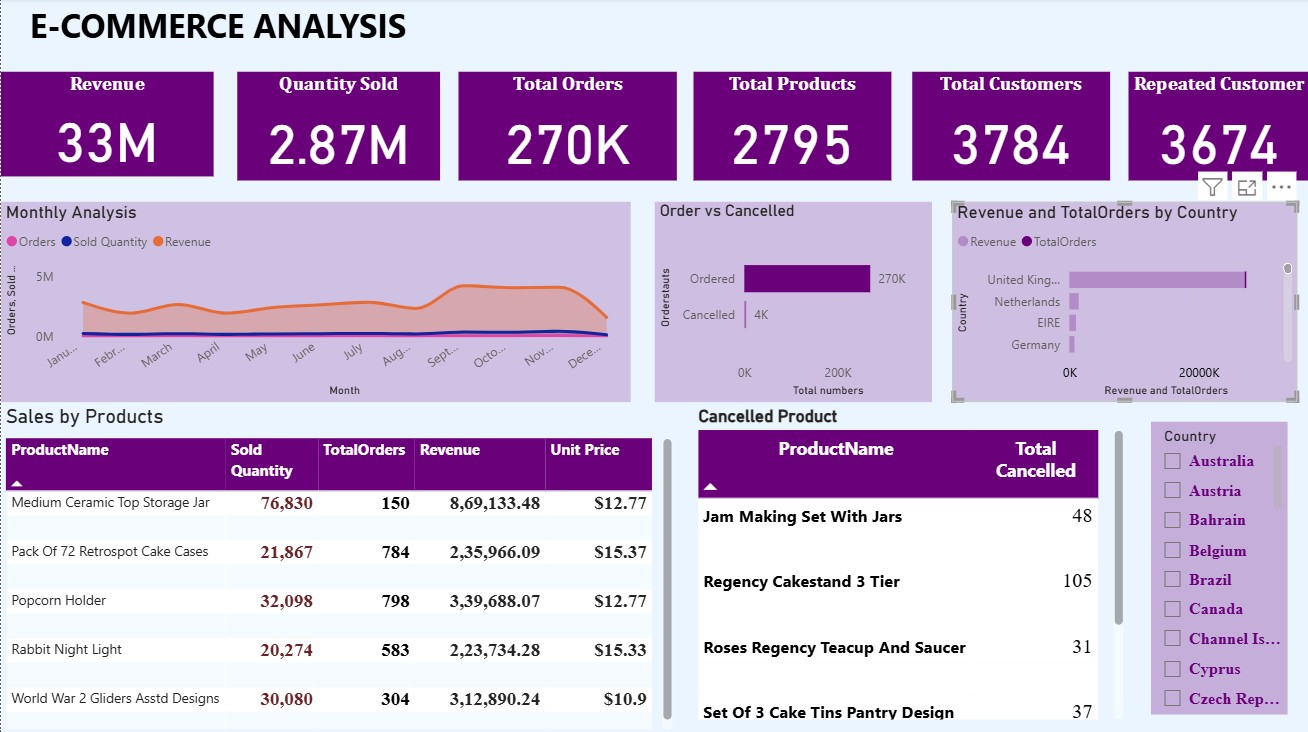

What the dashboard file says about the page in this screenshot:
{"tool":"powerbi","page":{"name":"KPI","canvas":[1280,720],"ordinal":0},"visuals":[{"type":"card","title":"Total Products","fields":{"Values":["Count(Ecommerce.ProductNo)"]},"box":[677.4,72.1,193.2,106.4],"z":0},{"type":"card","title":"Total Customers","fields":{"Values":["Count(Ecommerce.CustomerNo)"]},"box":[891.4,72.1,193.2,106.4],"z":1000},{"type":"card","title":"Repeated Customer","fields":{"Values":["Ecommerce.Repeat Customers"]},"box":[1103,72.1,177.3,106.4],"z":2000},{"type":"card","title":"Quantity Sold","fields":{"Values":["Ecommerce.Sales"]},"box":[231.1,72.1,198.1,106.4],"z":3000},{"type":"card","title":"Total Orders","fields":{"Values":["Ecommerce.TotalOrders"]},"box":[447.6,72.1,214,106.4],"z":4000},{"type":"pivotTable","title":"Sales by Products","fields":{"Rows":["Ecommerce.ProductName"],"Values":["Ecommerce.Sold Quantity","Ecommerce.TotalOrders","Ecommerce.Revenue","Ecommerce.Unit Price"]},"box":[0,398.6,661.6,321.6],"z":5000},{"type":"areaChart","title":"Monthly Analysis","fields":{"Category":["Ecommerce.Date.Variation.Date Hierarchy.Month"],"Y":["Ecommerce.TotalOrders","Ecommerce.Sold Quantity","Ecommerce.Revenue"]},"box":[0,199.3,616.3,195.7],"z":7000},{"type":"barChart","title":"Order vs Cancelled","fields":{"Category":["Ecommerce.Orderstauts"],"Y":["CountNonNull(Ecommerce.Orderstauts)"]},"box":[639.5,199.3,271.5,195.7],"z":8000},{"type":"card","title":" Revenue","fields":{"Values":["Ecommerce.Revenue"]},"box":[0,72.1,207.9,102.7],"z":9000},{"type":"textbox","box":[23.2,0,556.4,72.1],"z":10000},{"type":"slicer","fields":{"Values":["Ecommerce.Country"]},"box":[1125,414.5,133.3,286.1],"z":11000},{"type":"pivotTable","title":"Cancelled Product","fields":{"Rows":["Ecommerce.ProductName"],"Values":["Ecommerce.Total Cancelled"]},"box":[677.4,398.6,425.5,311.8],"z":12000},{"type":"barChart","fields":{"Category":["Ecommerce.Country"],"Y":["Ecommerce.Revenue","Ecommerce.TotalOrders"]},"box":[930.6,199.3,337.5,195.7],"z":12001}]}

Visuals, with their boxes in screenshot pixels (x1, y1, x2, y2), scaled from the page's 1280x720 canvas onto the 1308x732 screenshot:
"Total Products" card: 692,73,890,181
"Total Customers" card: 911,73,1108,181
"Repeated Customer" card: 1127,73,1307,181
"Quantity Sold" card: 236,73,439,181
"Total Orders" card: 457,73,676,181
"Sales by Products" pivotTable: 0,405,676,731
"Monthly Analysis" areaChart: 0,203,630,402
"Order vs Cancelled" barChart: 653,203,931,402
" Revenue" card: 0,73,212,178
textbox: 24,0,592,73
slicer - Ecommerce.Country: 1150,421,1286,712
"Cancelled Product" pivotTable: 692,405,1127,722
barChart - Ecommerce.Country x Ecommerce.Revenue: 951,203,1296,402
